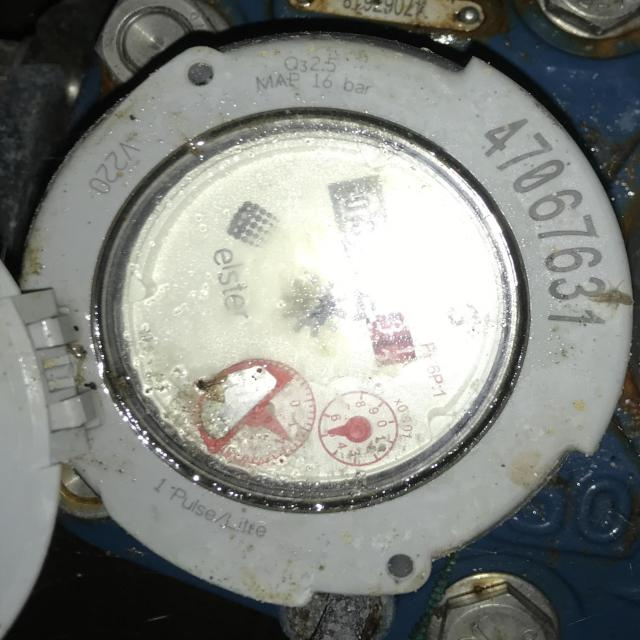gaz_meter: (100, 94, 556, 515)
indication: (326, 175, 424, 367)
